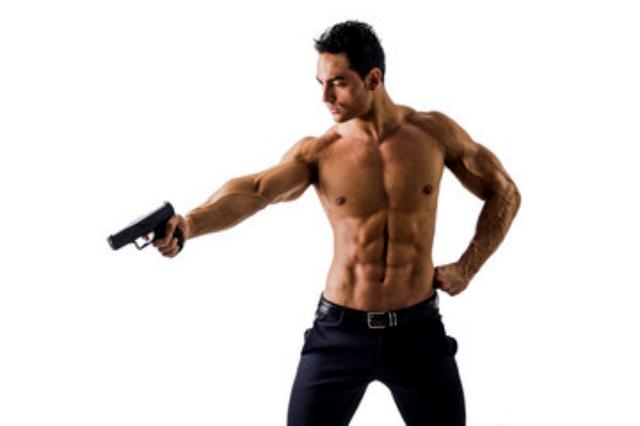pistol: (84, 198, 196, 260)
